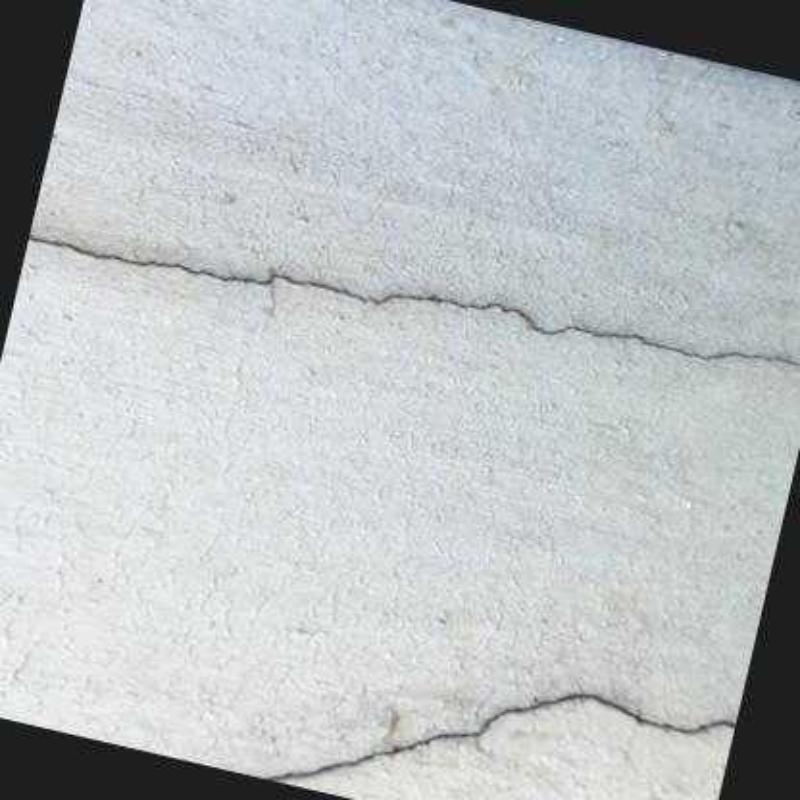pothole: (27, 233, 800, 368), (256, 691, 737, 784)
